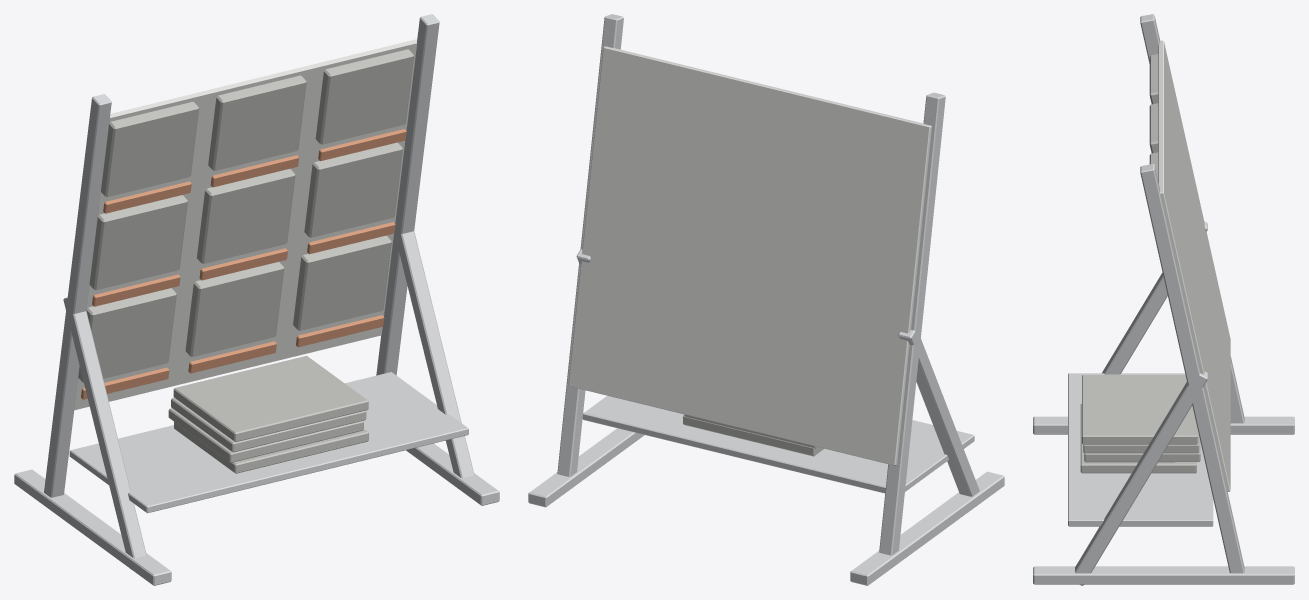
Rendered from garden-centre-and-florist-paving-sample-display-board-ab7e6de0__17797.glb.
The picture shows the model from 3 angles, left to right: view 1: azimuth 30°, elevation 25°; view 2: azimuth 150°, elevation 25°; view 3: azimuth 270°, elevation 25°; orthographic projection. The views are drawn at different scales.
Visible parts, largest first — view 1: paving-sample-display-board; view 2: paving-sample-display-board; view 3: paving-sample-display-board.
Part boxes in pixels (x1,y1,x2,y2): paving-sample-display-board: (14,14,499,585); paving-sample-display-board: (528,14,1004,585); paving-sample-display-board: (1033,14,1294,585).
Size of the model in its own units: 1.29 by 1.58 by 0.9.
